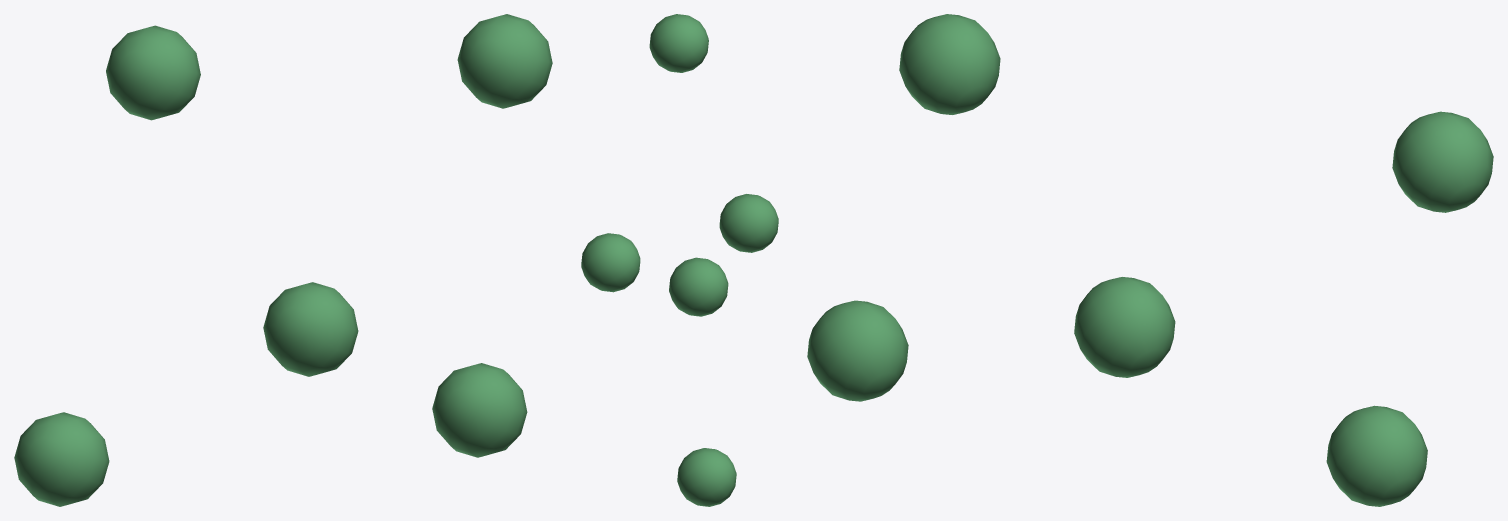
The picture shows the model from 3 angles, left to right: view 1: azimuth 30°, elevation 25°; view 2: azimuth 150°, elevation 25°; view 3: azimuth 270°, elevation 25°; orthographic projection. The views are drawn at different scales.
Visible parts, largest first — view 1: 左侧乳突淋巴结; view 2: 左侧乳突淋巴结; view 3: 左侧乳突淋巴结.
Part boxes in pixels (bbox=[...]): 左侧乳突淋巴结: bbox=[14, 14, 552, 506]; 左侧乳突淋巴结: bbox=[581, 14, 778, 506]; 左侧乳突淋巴结: bbox=[807, 14, 1493, 506].
Bounding box in the file's own units: 0.0151 × 0.0253 × 0.0258.
